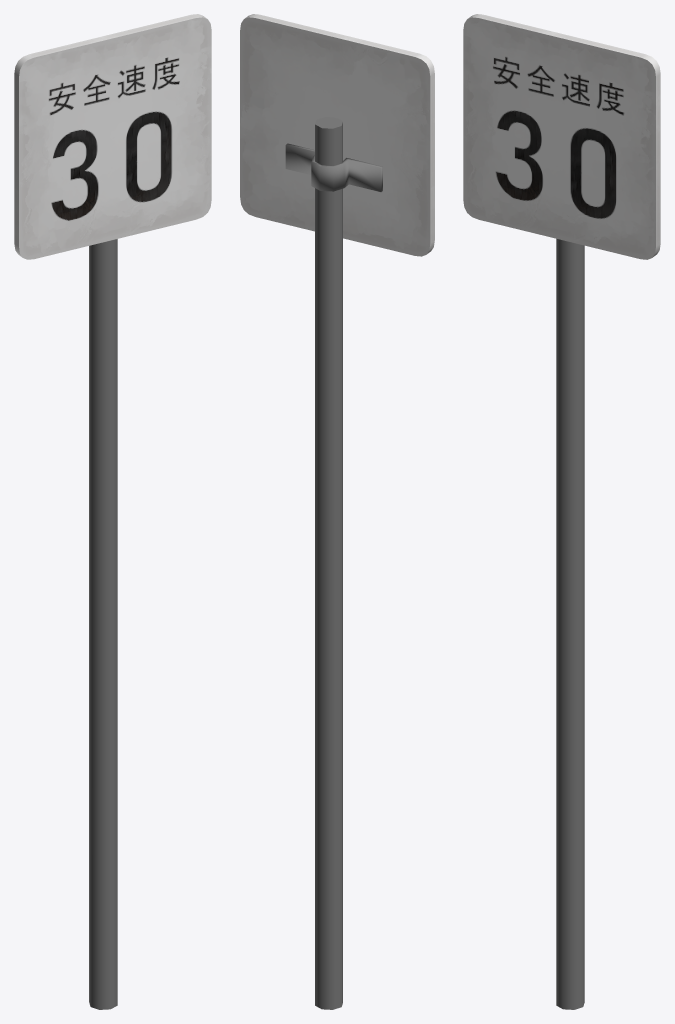
The model's file is SM_sign_traffic_013.fbx.
The picture shows the model from 3 angles, left to right: view 1: azimuth 30°, elevation 25°; view 2: azimuth 150°, elevation 25°; view 3: azimuth 330°, elevation 25°; orthographic projection.
Parts seen in each view (by area): view 1: Object32700; view 2: Object32700; view 3: Object32700.
Boxes of the visible parts, x1=… form: Object32700: x1=14, y1=14, x2=211, y2=1009; Object32700: x1=240, y1=14, x2=434, y2=1009; Object32700: x1=463, y1=14, x2=660, y2=1009.
Size of the model in its own units: 23.84 by 115 by 4.42.
